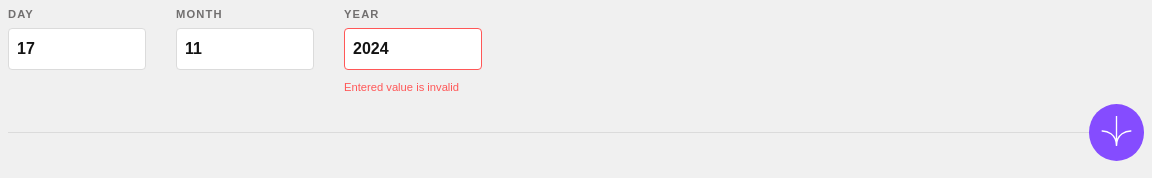
Test: CalculatorForm › Entered month > 12, month input shows error
Replace the text in the field with id "age-month" with "13" at (245,49), box 176,28 -> 314,70
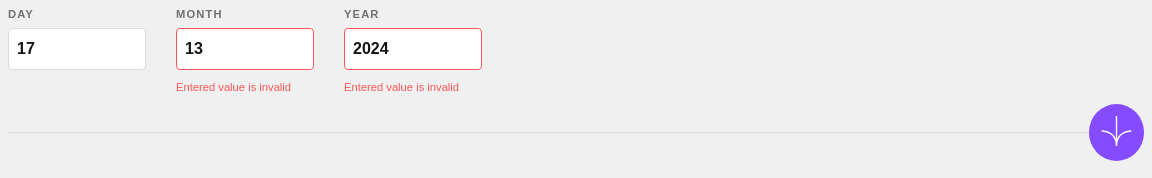
Result: the text with class "input-error--month" reads "Entered value is invalid" at 176,81 -> 291,93
